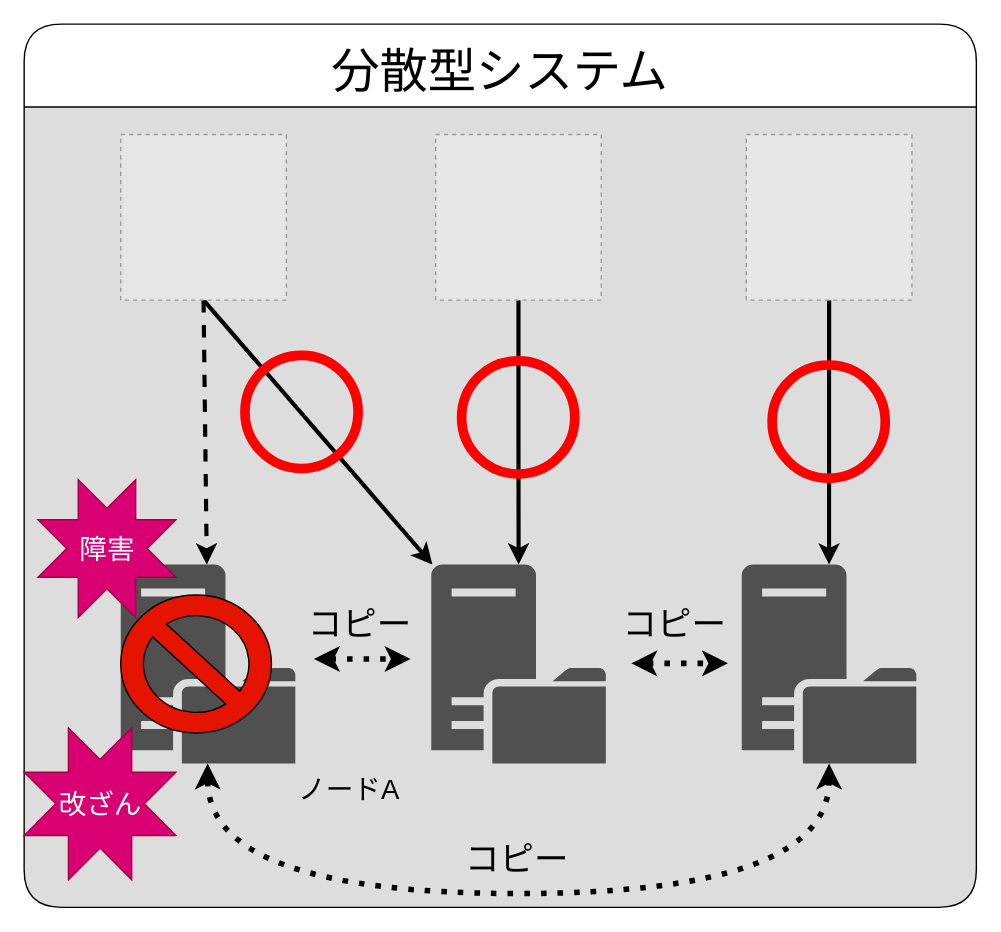
The diagram is 1001 pixels wide and 932 high, and some of its shapes have lost their labels. Grey dashed boxes stand in for pictures. The centre of each missing label's shape, as x and y in pixels:
"ノードB" goes at (518,663).
"ノードC" goes at (828,663).
